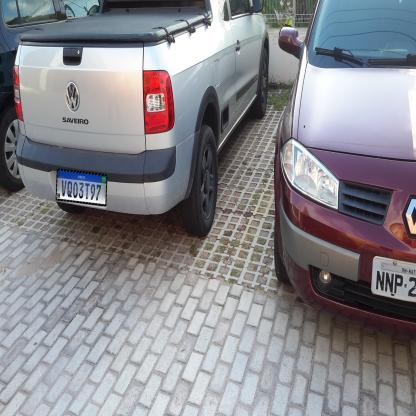PlacaM: (56, 169, 107, 206)
